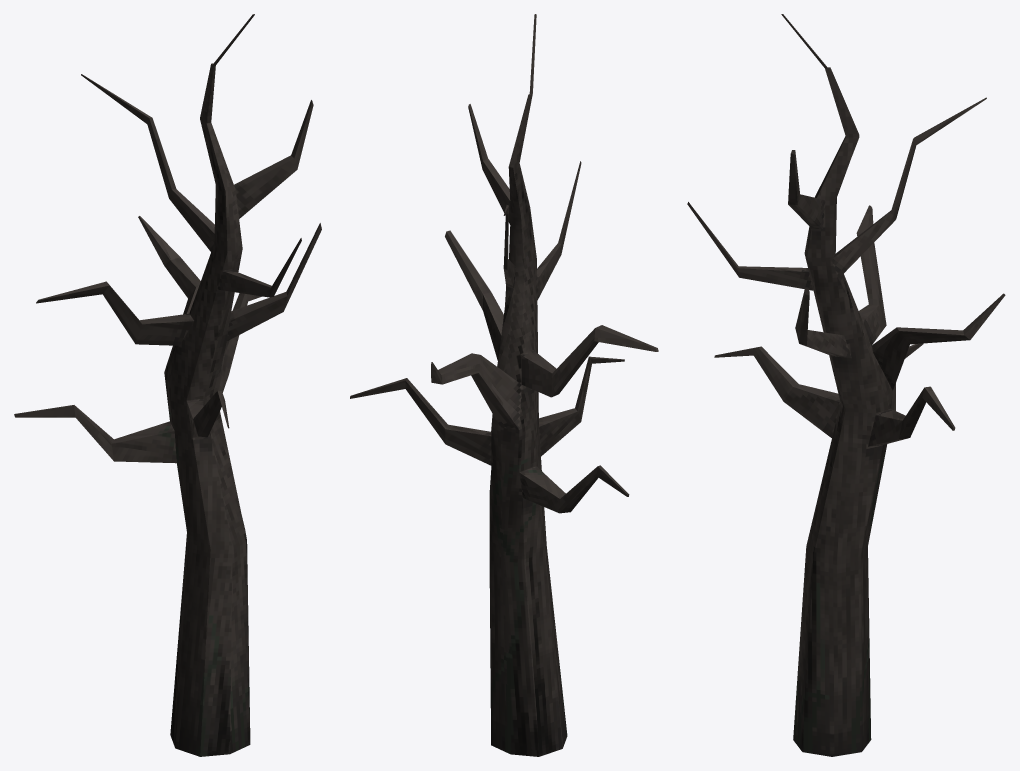
The model's file is tree2.fbx.
3 renders of one model, left to right at view 1: azimuth 30°, elevation 25°; view 2: azimuth 150°, elevation 25°; view 3: azimuth 270°, elevation 25°, orthographic. The views are drawn at different scales.
Visible parts, largest first — view 1: pCube4; view 2: pCube4; view 3: pCube4.
Boxes of the visible parts, <box> form: pCube4: <box>14,14,321,756</box>; pCube4: <box>350,14,658,756</box>; pCube4: <box>687,14,1005,756</box>.
Bounding box in the file's own units: 6.09 × 15.25 × 5.99.
